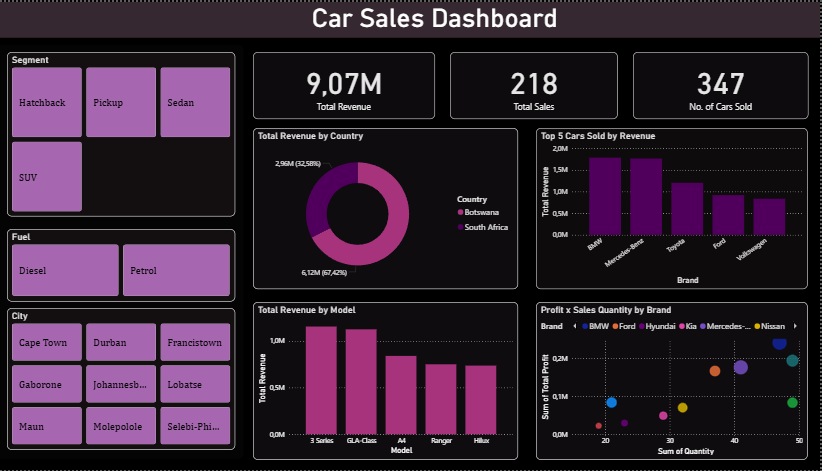

The page's visual inventory and layout, read from the dashboard file:
{"tool":"powerbi","page":{"name":"Page 1","canvas":[1500,850],"ordinal":0},"visuals":[{"type":"card","fields":{"Values":["Measures..Total Revenue"]},"box":[468.5,90.6,330.7,122],"z":0},{"type":"card","fields":{"Values":["Measures..Cars Sold"]},"box":[1159.4,90.6,318.9,122],"z":1000},{"type":"donutChart","fields":{"Category":["Dealers.Country"],"Y":["Measures..Total Revenue"]},"box":[468.5,228.3,482.3,293.3],"z":2000},{"type":"clusteredColumnChart","title":"Top 5 Cars Sold by Revenue","fields":{"Y":["Measures..Total Revenue"],"Category":["Models.Brand"]},"box":[984.3,228.3,494.1,293.3],"z":3000},{"type":"card","fields":{"Values":["CountNonNull(Sales.SaleID)"]},"box":[826.8,90.6,305.1,122],"z":4000},{"type":"scatterChart","title":"Profit x Sales Quantity by Brand","fields":{"Series":["Models.Brand"],"Size":["Measures..Total Revenue"],"Y":["Sum(Sales.Total Profit)"],"X":["Sum(Sales.Quantity)"]},"box":[984.3,545.3,494.1,287.4],"z":5000},{"type":"textbox","title":"Car Sales Dashboard","box":[0,0,1599.5,65.2],"z":6000},{"type":"textbox","box":[0,76.8,452.8,755.9],"z":7000},{"type":"advancedSlicerVisual","fields":{"Values":["Models.Segment"]},"box":[21.7,90.6,415.4,299.2],"z":8000},{"type":"advancedSlicerVisual","fields":{"Values":["Models.Fuel"]},"box":[21.7,413.4,415.4,131.9],"z":9000},{"type":"columnChart","fields":{"Y":["Measures..Total Revenue"],"Category":["Models.Model"]},"box":[468.5,545.3,482.3,287.4],"z":10000},{"type":"advancedSlicerVisual","fields":{"Values":["Dealers.City"]},"box":[21.7,557.1,415.4,257.9],"z":11000}]}

Visuals, with their boxes in screenshot pixels (x1, y1, x2, y2), scaled from the page's 1500x850 canvas onto the 822x471 screenshot:
card - Measures..Total Revenue: select_region(257, 50, 438, 118)
card - Measures..Cars Sold: select_region(635, 50, 810, 118)
donutChart - Dealers.Country x Measures..Total Revenue: select_region(257, 127, 521, 289)
"Top 5 Cars Sold by Revenue" clusteredColumnChart: select_region(539, 127, 810, 289)
card - CountNonNull(Sales.SaleID): select_region(453, 50, 620, 118)
"Profit x Sales Quantity by Brand" scatterChart: select_region(539, 302, 810, 461)
"Car Sales Dashboard" textbox: select_region(0, 0, 821, 36)
textbox: select_region(0, 43, 248, 461)
advancedSlicerVisual - Models.Segment: select_region(12, 50, 240, 216)
advancedSlicerVisual - Models.Fuel: select_region(12, 229, 240, 302)
columnChart - Measures..Total Revenue x Models.Model: select_region(257, 302, 521, 461)
advancedSlicerVisual - Dealers.City: select_region(12, 309, 240, 452)
